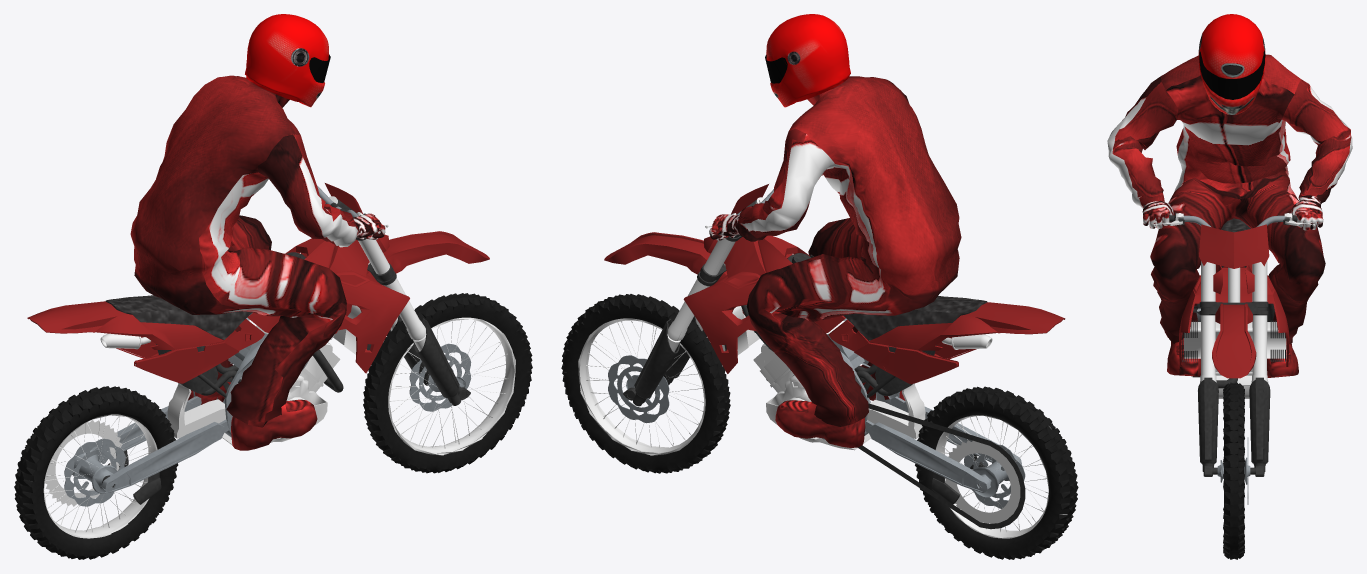
File: sm_motorcycle_a_001.fbx
3 renders of one model, left to right at view 1: azimuth 30°, elevation 25°; view 2: azimuth 150°, elevation 25°; view 3: azimuth 270°, elevation 25°, orthographic. The views are drawn at different scales.
Parts seen in each view (by area): view 1: sm_motorcycle_a_001; view 2: sm_motorcycle_a_001; view 3: sm_motorcycle_a_001.
Boxes of the visible parts, <box> form: sm_motorcycle_a_001: <box>14,14,532,559</box>; sm_motorcycle_a_001: <box>561,14,1078,559</box>; sm_motorcycle_a_001: <box>1107,14,1352,559</box>.
Bounding box in the file's own units: 1.92 × 1.77 × 0.8533.
Materials: 4 (3 with a texture image).
